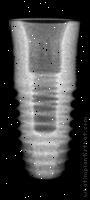NucleOSS: (6, 20, 81, 182)
